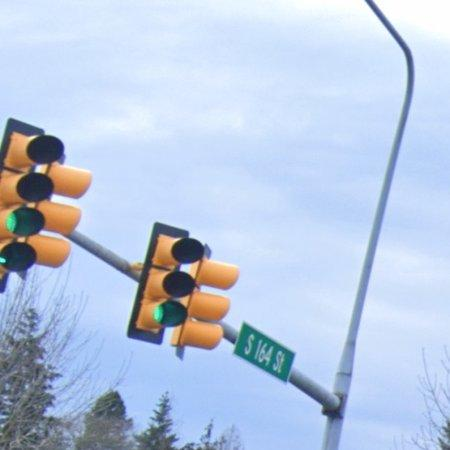traffic lights: (128, 223, 204, 345)
